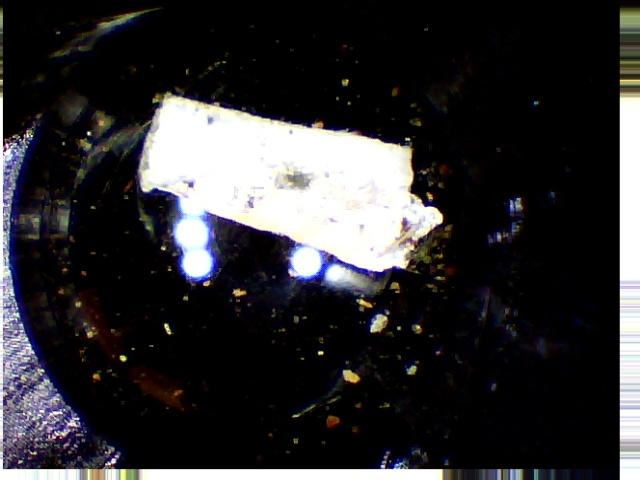megot: (127, 81, 449, 275)
